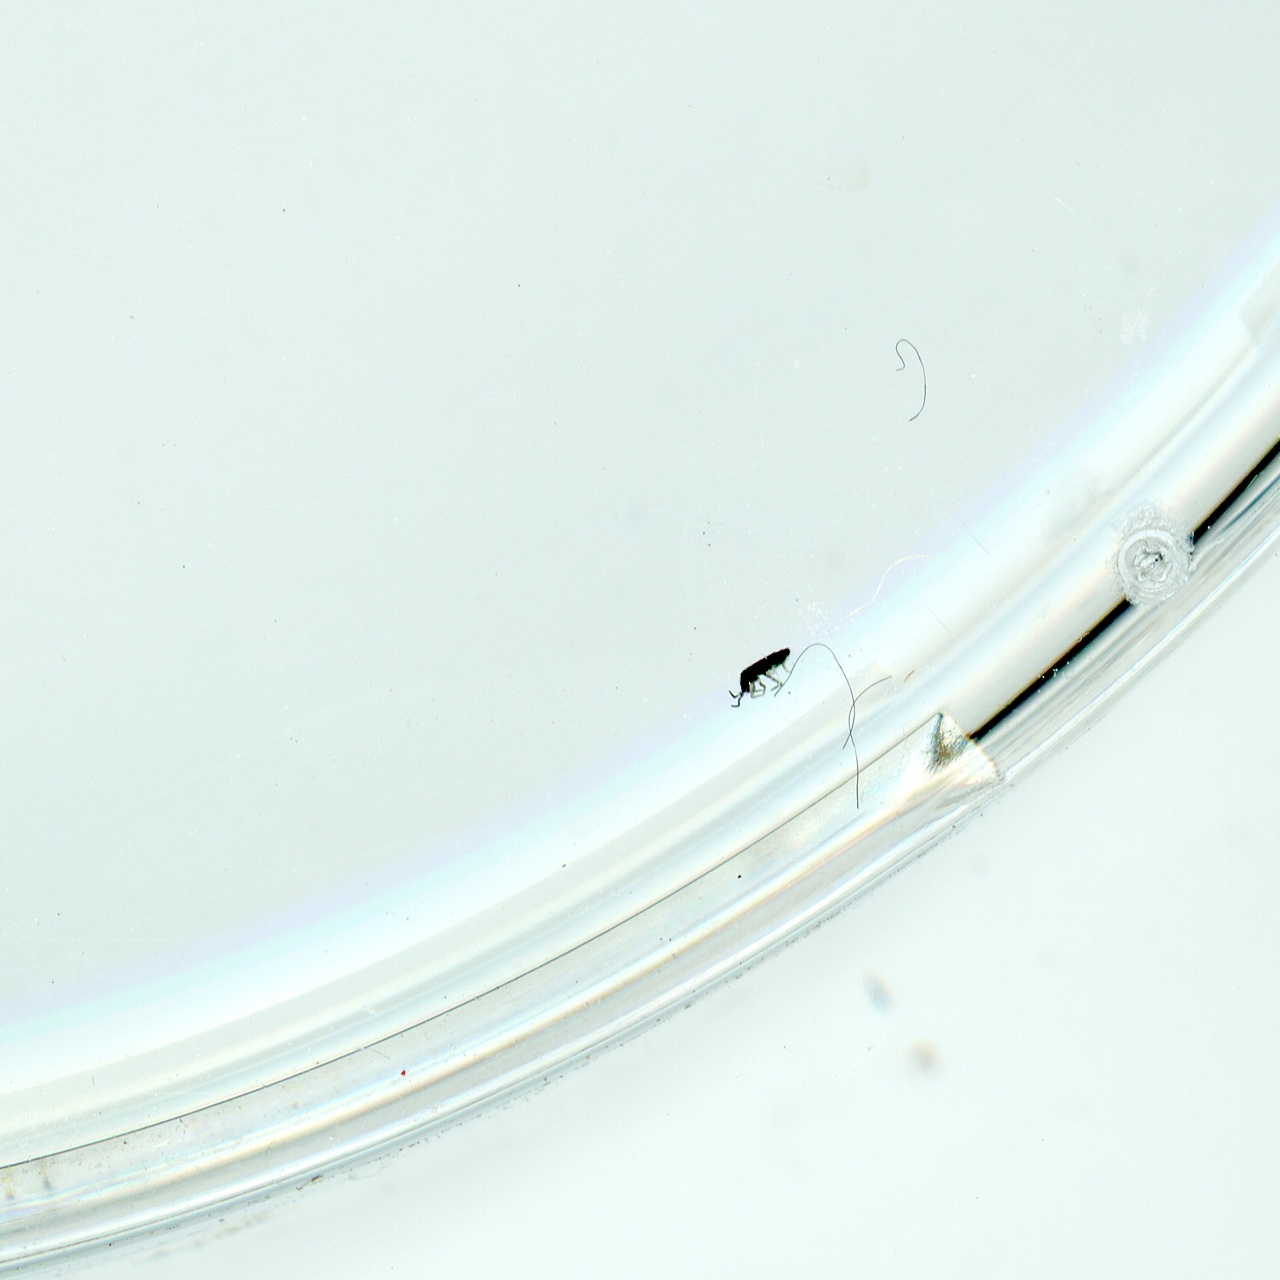arthropod: (723, 631, 802, 717)
